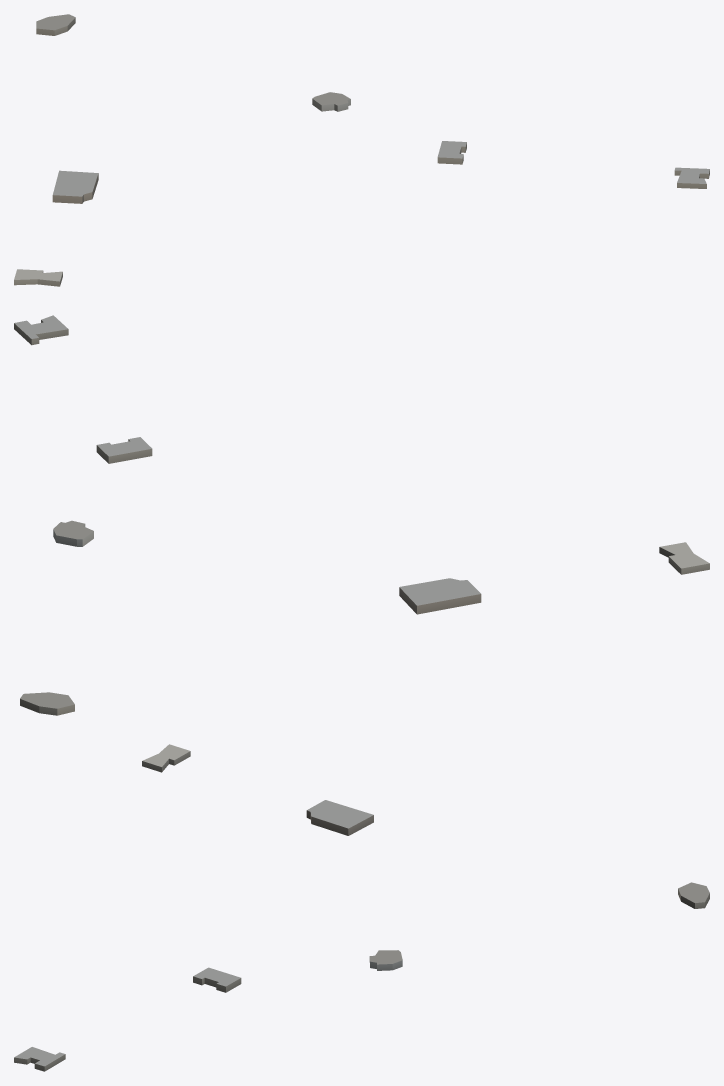
The model's file is bld_9_7.fbx.
3 views of the same model, one above another, from view 1: azimuth 30°, elevation 25°; view 2: azimuth 150°, elevation 25°; view 3: azimuth 270°, elevation 25° (orthographic). The views are drawn at different scales.
Parts seen in each view (by area): view 1: bld_9_7_LOD0; view 2: bld_9_7_LOD0; view 3: bld_9_7_LOD0.
Part boxes in pixels (<box>): bld_9_7_LOD0: <box>14,14,709,286</box>; bld_9_7_LOD0: <box>14,315,709,715</box>; bld_9_7_LOD0: <box>14,744,709,1071</box>.
Size of the model in its own units: 1091 by 11.88 by 996.
